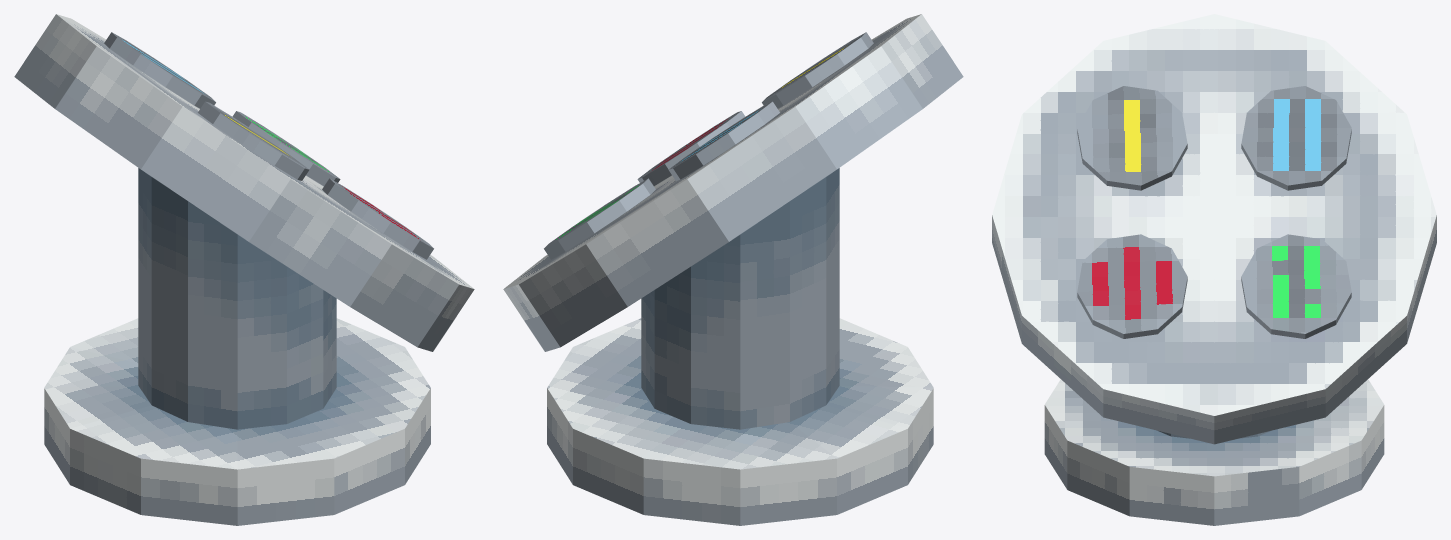
File: pedestal.fbx
3 views of the same model, side by side, from view 1: azimuth 30°, elevation 25°; view 2: azimuth 150°, elevation 25°; view 3: azimuth 270°, elevation 25° (orthographic). The views are drawn at different scales.
Visible parts, largest first — view 1: Pedestal, Sigil.002, Sigil, Sigil.001, Sigil.003; view 2: Pedestal, Sigil.003, Sigil.001, Sigil, Sigil.002; view 3: Pedestal, Sigil, Sigil.001, Sigil.003, Sigil.002.
Part boxes in pixels (box(x1,y1,x2,y2)): Pedestal: box(14, 14, 474, 525); Sigil.002: box(322, 178, 433, 259); Sigil: box(198, 101, 309, 180); Sigil.001: box(104, 32, 215, 108); Sigil.003: box(232, 111, 340, 185); Pedestal: box(503, 14, 963, 525); Sigil.003: box(544, 178, 655, 259); Sigil.001: box(668, 101, 779, 180); Sigil: box(762, 32, 873, 108); Sigil.002: box(637, 111, 745, 185); Pedestal: box(992, 14, 1436, 525); Sigil: box(1077, 86, 1187, 190); Sigil.001: box(1241, 86, 1351, 190); Sigil.003: box(1241, 234, 1351, 338); Sigil.002: box(1077, 234, 1187, 338).
Bounding box in the file's own units: 220 × 240 × 255.
Materials: 2 (2 with a texture image).
